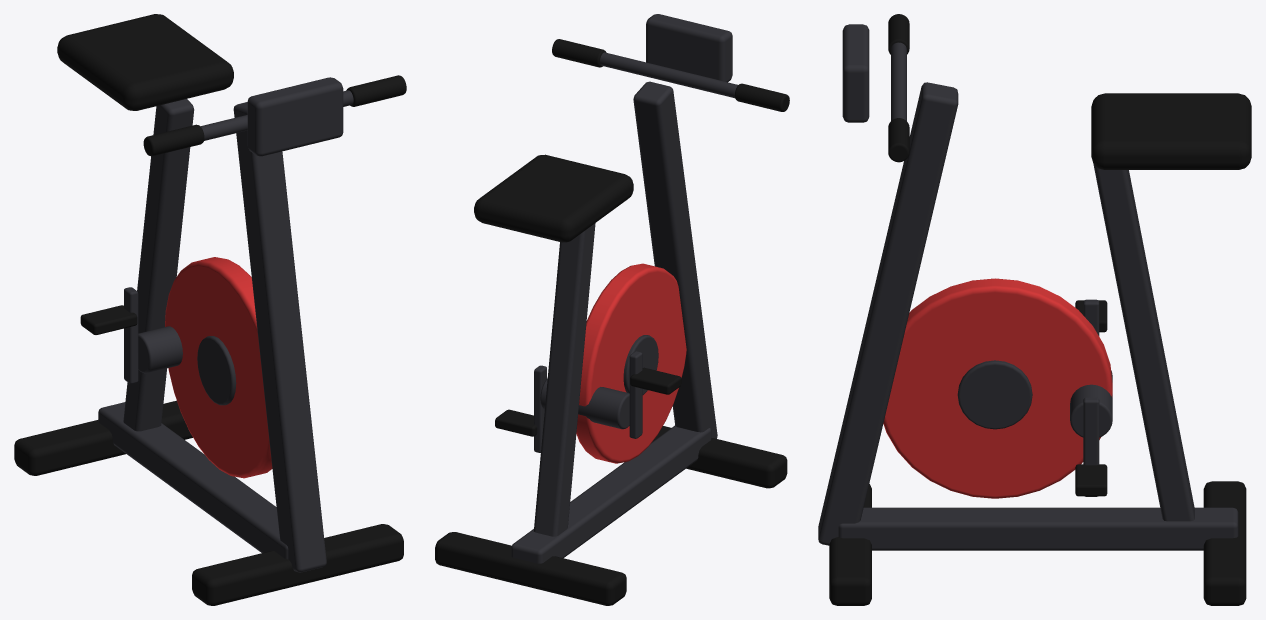
File: exercise_bike.glb
The picture shows the model from 3 angles, left to right: view 1: azimuth 30°, elevation 25°; view 2: azimuth 150°, elevation 25°; view 3: azimuth 270°, elevation 25°; orthographic projection. The views are drawn at different scales.
Visible parts, largest first — view 1: Cube.005, Cylinder.003, Cube.004, Cube.003, Cube.002, Cube.001, Cube.006, Cube, Cylinder.004, Cylinder.005, Cylinder.001, Cube.008 (+3 smaller); view 2: Cylinder.003, Cube.005, Cube.003, Cube.004, Cube.002, Cube, Cube.006, Cube.001, Cylinder, Cylinder.005, Cube.008, Cylinder.001 (+5 smaller); view 3: Cylinder.003, Cube.005, Cube.002, Cube.003, Cube.004, Cube, Cylinder.004, Cube.001, Cube.006, Cylinder.005, Cylinder, Cube.010 (+3 smaller).
Boxes of the visible parts, box(x1,y1,x2,y2) form: Cube.005: box(233, 102, 326, 572); Cylinder.003: box(165, 257, 272, 478); Cube.004: box(57, 14, 233, 110); Cube.003: box(123, 99, 194, 431); Cube.002: box(98, 402, 288, 559); Cube.001: box(192, 524, 403, 605); Cube.006: box(247, 77, 343, 156); Cube: box(14, 400, 192, 475); Cylinder.004: box(197, 336, 236, 405); Cylinder.005: box(138, 326, 182, 373); Cylinder.001: box(143, 124, 204, 156); Cube.008: box(124, 287, 138, 383); Cylinder.003: box(576, 263, 686, 463); Cube.005: box(633, 81, 717, 438); Cube.003: box(533, 223, 595, 536); Cube.004: box(474, 154, 633, 242); Cube.002: box(511, 425, 711, 563); Cube: box(435, 532, 626, 605); Cube.006: box(646, 14, 732, 82); Cube.001: box(652, 426, 787, 488); Cylinder: box(600, 52, 737, 98); Cylinder.005: box(540, 378, 629, 429); Cube.008: box(629, 351, 642, 438); Cylinder.001: box(735, 83, 789, 111); Cylinder.003: box(883, 278, 1112, 498); Cube.005: box(818, 82, 958, 545); Cube.002: box(838, 507, 1238, 550); Cube.003: box(1093, 163, 1194, 521); Cube.004: box(1091, 93, 1251, 169); Cube: box(1203, 481, 1246, 605); Cylinder.004: box(957, 360, 1032, 429); Cube.001: box(829, 484, 871, 605); Cube.006: box(842, 24, 869, 122); Cylinder.005: box(1070, 370, 1112, 437); Cylinder: box(891, 42, 906, 120); Cube.010: box(1083, 397, 1099, 496).
Size of the model in its own units: 0.58 by 1.06 by 0.8109.
